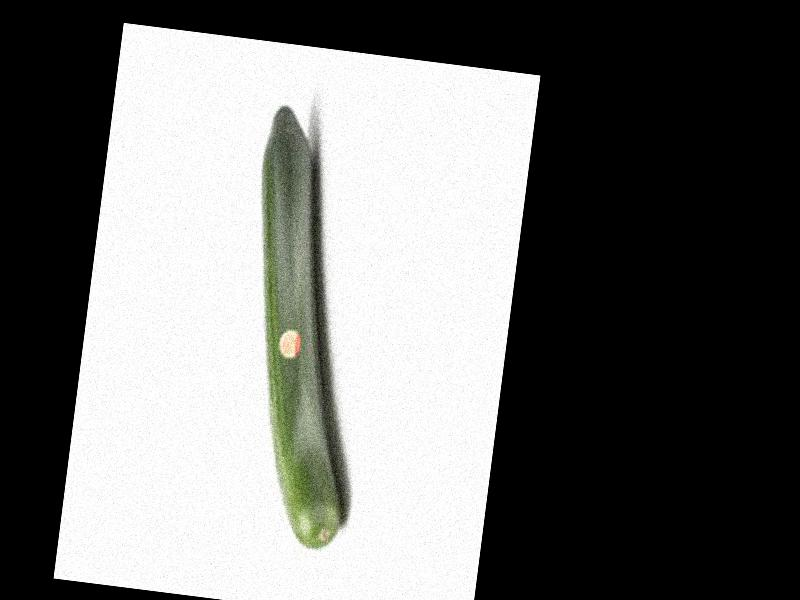Cucumber: (215, 103, 391, 554)
